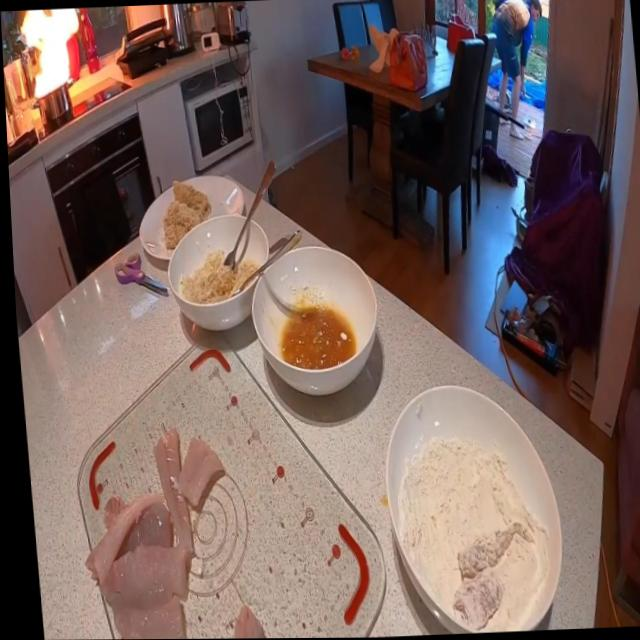fire: (18, 8, 86, 101)
